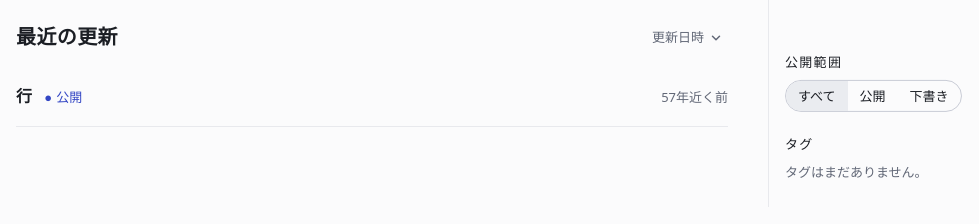
Test: HomeView の並び順 › Escape でメニューを閉じてボタンに焦点を戻し、矢印キーで項目を移る
expect the list with class "entries" is shown: met, box [16,67,728,127]
Click the button "更新日時" at {"x": 686, "y": 38}, box [644,24,728,50]
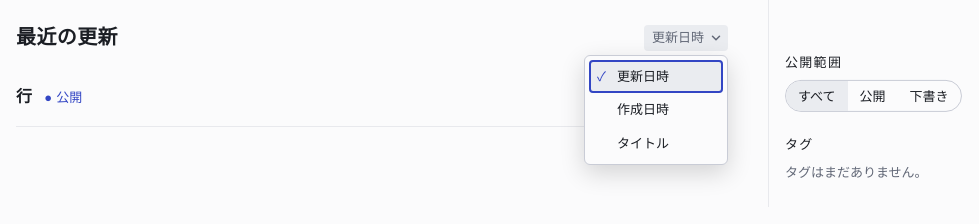
Press ArrowDown in the menu item "✓ 更新日時", box [589,60,723,93]
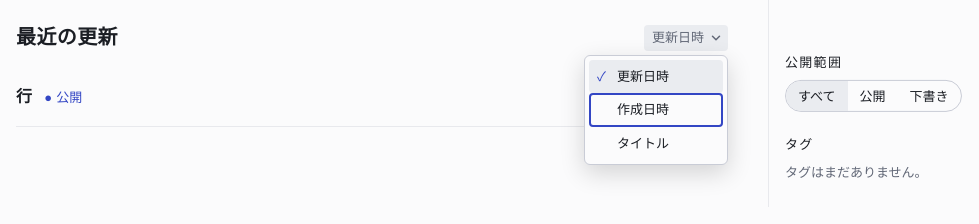
Press ArrowUp in the menu item "作成日時", box [589,93,723,126]
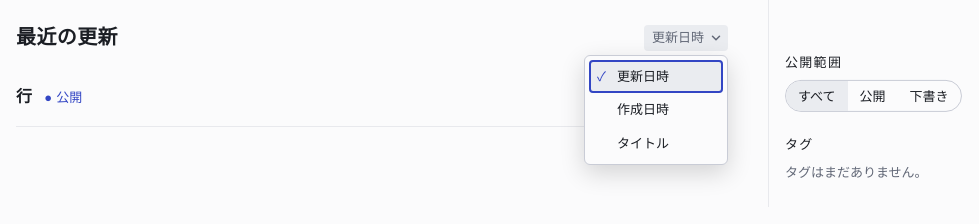
Press ArrowUp in the menu item "✓ 更新日時", box [589,60,723,93]
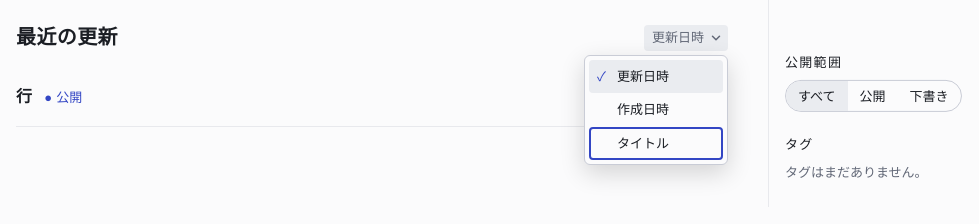
Press Escape in the menu item "タイトル", box [589,127,723,160]
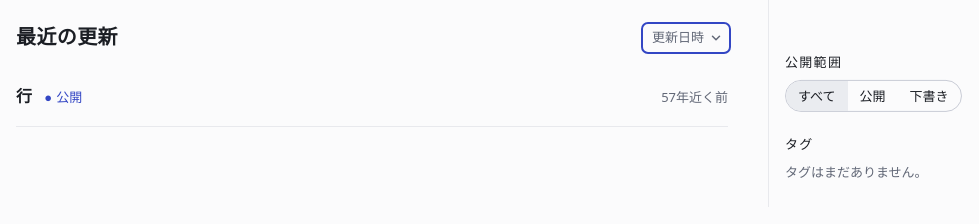
expect the menu is gone: met
